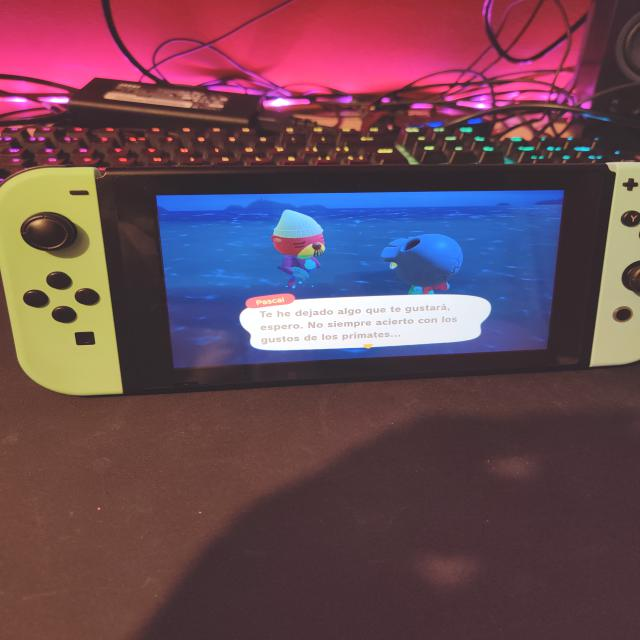text_bubble: (238, 291, 498, 352)
